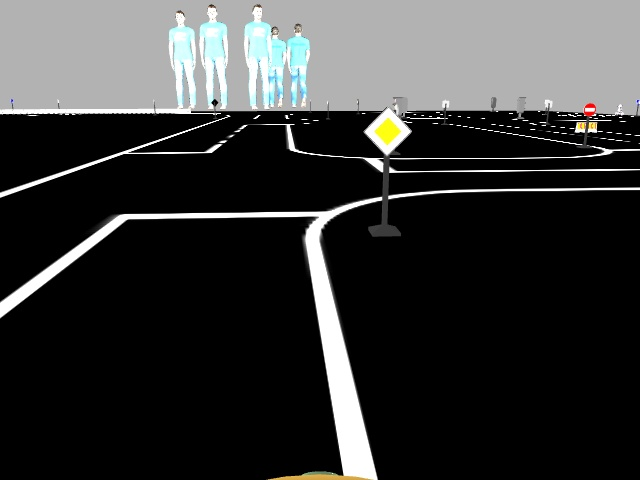ClosedRoadStand: (573, 118, 600, 133)
NoEntry: (579, 100, 596, 116)
Priority: (362, 104, 414, 156)
